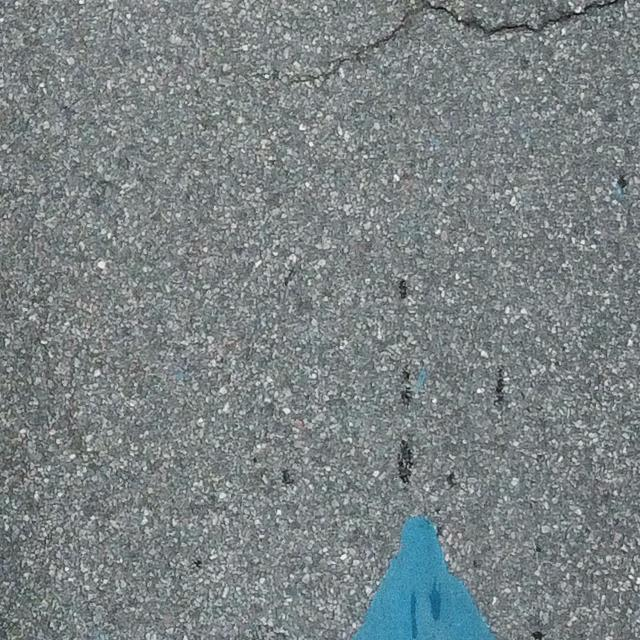TransverseCrack: (281, 1, 619, 88)
